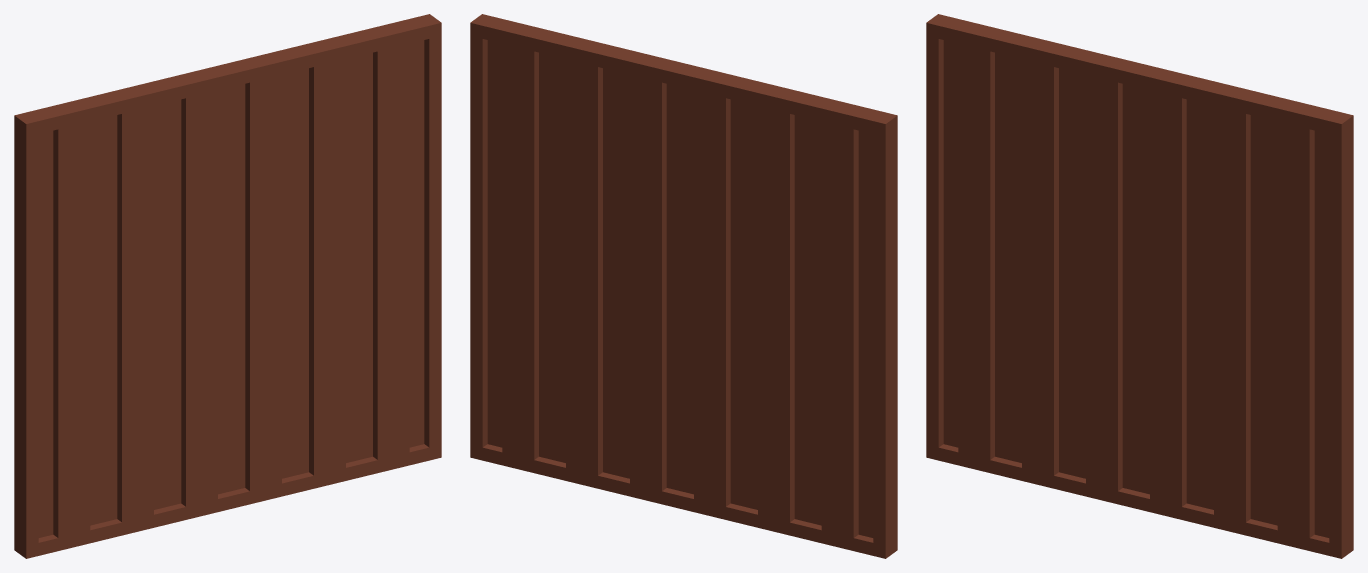
The model's file is Long tall fence.fbx.
The picture shows the model from 3 angles, left to right: view 1: azimuth 30°, elevation 25°; view 2: azimuth 150°, elevation 25°; view 3: azimuth 330°, elevation 25°; orthographic projection.
Parts seen in each view (by area): view 1: Long tall fence; view 2: Long tall fence; view 3: Long tall fence.
Part boxes in pixels (bbox=[...]): Long tall fence: bbox=[14, 14, 441, 558]; Long tall fence: bbox=[470, 14, 897, 558]; Long tall fence: bbox=[926, 14, 1353, 558].
Bounding box in the file's own units: 200 × 200 × 10.
